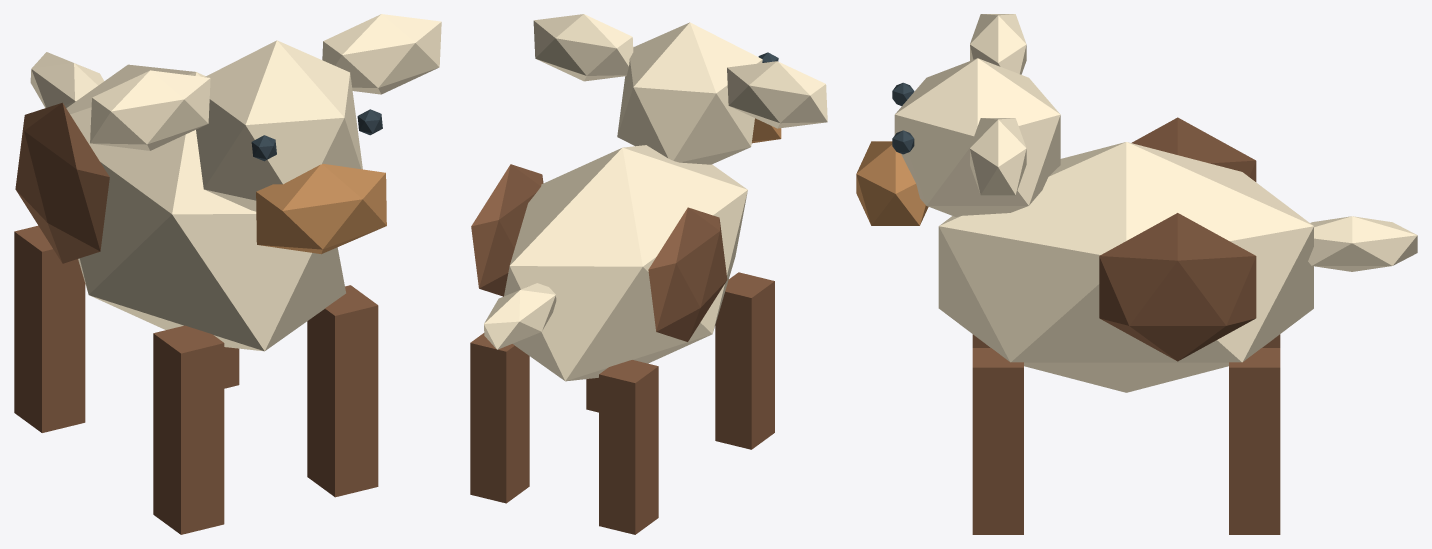
The model's file is calf.glb.
The picture shows the model from 3 angles, left to right: view 1: azimuth 30°, elevation 25°; view 2: azimuth 150°, elevation 25°; view 3: azimuth 270°, elevation 25°; orthographic projection. The views are drawn at different scales.
Parts seen in each view (by area): view 1: body_bob, head_peck, leg, leg.002, leg.001, spot, muzzle, ear, ear.001, tail, leg.003, eye (+1 smaller); view 2: body_bob, head_peck, leg.001, leg, leg.003, spot, ear, ear.001, spot.001, tail, muzzle, leg.002; view 3: body_bob, spot.001, head_peck, leg.003, leg.002, tail, muzzle, ear.001, spot, ear.
Part boxes in pixels (<box>): body_bob: <box>66,64,345,351</box>; head_peck: <box>196,40,362,211</box>; leg: <box>153,325,224,534</box>; leg.002: <box>307,285,378,497</box>; leg.001: <box>14,225,85,432</box>; spot: <box>15,102,109,263</box>; muzzle: <box>256,163,386,254</box>; ear: <box>90,70,210,150</box>; ear.001: <box>322,14,441,94</box>; tail: <box>30,52,103,108</box>; leg.003: <box>224,347,239,388</box>; eye: <box>251,135,276,161</box>; body_bob: <box>504,145,747,381</box>; head_peck: <box>617,22,762,164</box>; leg.001: <box>599,360,658,534</box>; leg: <box>715,272,774,449</box>; leg.003: <box>470,333,529,503</box>; spot: <box>648,207,727,341</box>; ear: <box>727,61,827,128</box>; ear.001: <box>533,14,633,81</box>; spot.001: <box>471,164,543,296</box>; tail: <box>484,283,556,349</box>; muzzle: <box>752,118,781,143</box>; leg.002: <box>586,377,598,412</box>; body_bob: <box>938,142,1313,392</box>; spot.001: <box>1099,213,1256,361</box>; head_peck: <box>894,58,1060,217</box>; leg.003: <box>1229,348,1280,534</box>; leg.002: <box>972,348,1023,534</box>; tail: <box>1308,216,1417,271</box>; muzzle: <box>856,141,928,225</box>; ear.001: <box>970,118,1026,195</box>; spot: <box>1132,117,1256,181</box>; ear: <box>970,14,1026,74</box>.
Bounding box in the file's own units: 0.7304 × 0.93 × 1.09.
